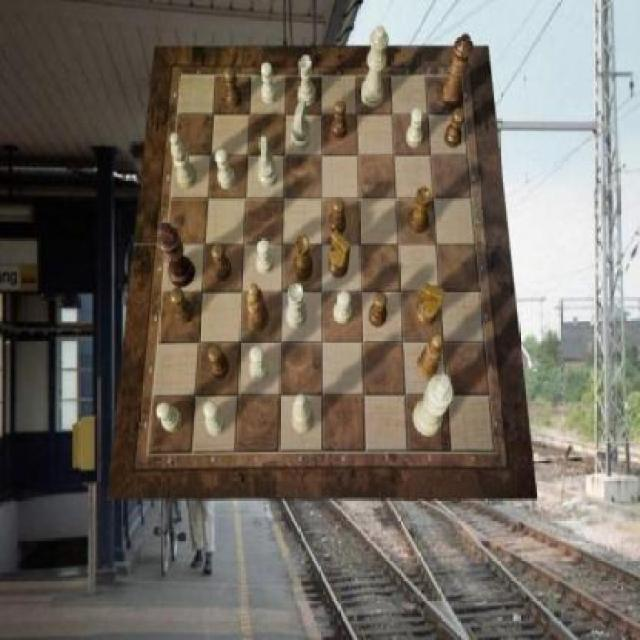bishop: (246, 283, 269, 332), (417, 334, 441, 379)
black-bishop: (157, 223, 196, 289)
black-king: (416, 281, 446, 327), (329, 230, 352, 278)
black-knight: (170, 289, 194, 324), (446, 108, 466, 148), (212, 243, 232, 281), (330, 100, 348, 140), (225, 68, 242, 109), (208, 345, 228, 379), (369, 292, 387, 328), (328, 199, 345, 236)
black-pawn: (438, 34, 474, 112)
black-queen: (408, 186, 432, 234), (294, 236, 314, 282)
black-rook: (171, 132, 197, 188), (292, 394, 316, 434)
white-bishop: (414, 374, 454, 436)
white-king: (291, 97, 310, 151), (258, 137, 278, 188)
white-knight: (216, 149, 237, 189), (204, 402, 226, 438), (157, 402, 181, 432), (332, 290, 352, 324), (406, 108, 423, 148), (262, 63, 278, 105), (250, 346, 268, 382), (255, 238, 273, 274)
white-pawn: (362, 25, 389, 107)
white-queen: (286, 283, 307, 329), (299, 55, 316, 108)
